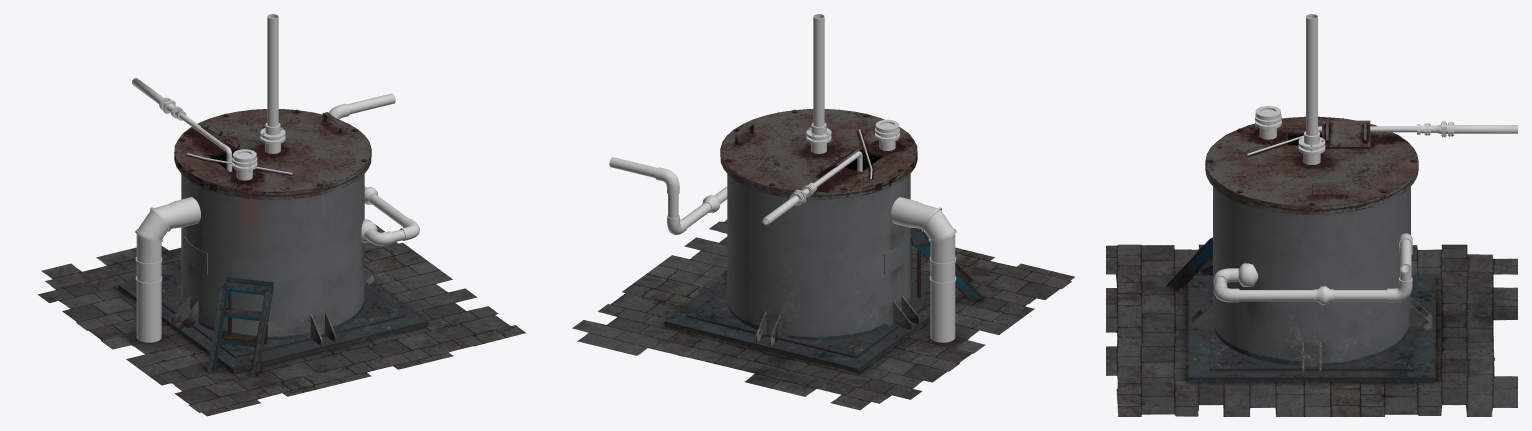
3 views of the same model, side by side, from view 1: azimuth 30°, elevation 25°; view 2: azimuth 150°, elevation 25°; view 3: azimuth 270°, elevation 25° (orthographic). The views are drawn at different scales.
Visible parts, largest first — view 1: Tank, Ground, Pipes; view 2: Tank, Ground, Pipes; view 3: Ground, Tank, Pipes.
Part boxes in pixels (x1,y1,x2,y2): Tank: (172,109,373,345); Ground: (37,224,525,416); Pipes: (132,14,419,342); Tank: (718,109,919,345); Ground: (572,219,1074,410); Pipes: (609,14,956,342); Ground: (1106,237,1517,416); Tank: (1191,116,1432,377); Pipes: (1213,14,1517,304).
Size of the model in its own units: 1.98 by 1.69 by 2.
